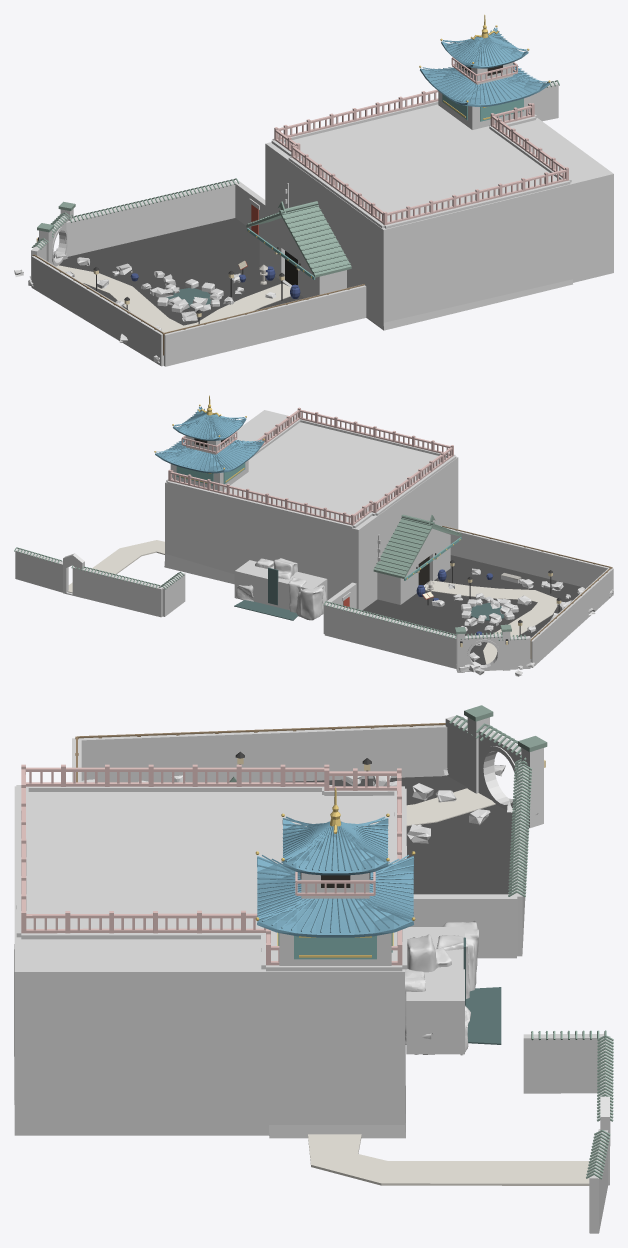
File: CN_nachtegaal.fbx
3 views of the same model, one above another, from view 1: azimuth 30°, elevation 25°; view 2: azimuth 150°, elevation 25°; view 3: azimuth 270°, elevation 25° (orthographic). The views are drawn at different scales.
Visible parts, largest first — view 1: COLL_0, static__TEX_stuc_A_0, static__MAT_zwartgrind_0, static__MAT_roze_0, COLL_6, static__TEX_stuc_V_0, COLL_3, static__MAT_blauwdak_0, static__MAT_groendak_0, static__TEX_stuc_L_0, COLL_5, static__MAT_grind_0 (+4 smaller); view 2: COLL_0, static__TEX_stuc_A_0, static__MAT_zwartgrind_0, static__MAT_roze_0, static__TEX_rots_0, COLL_3, static__MAT_groendak_0, static__MAT_blauwdak_0, static__MAT_grind_0, COLL_6, static__TEX_stuc_L_0, COLL_5 (+8 smaller); view 3: COLL_0, COLL_5, static__MAT_blauwdak_0, static__TEX_stuc_R_0, static__MAT_roze_0, static__MAT_grind_0, static__MAT_zwartgrind_0, static__TEX_stuc_A_0, static__MAT_groendak_0, COLL_10, static__TEX_rots_0, COLL_7 (+9 smaller).
Boxes of the visible parts, x1,y1,x2,y2 form: COLL_0: (265,104,613,328); static__TEX_stuc_A_0: (31,82,571,287); static__MAT_zwartgrind_0: (59,218,304,325); static__MAT_roze_0: (274,57,568,225); COLL_6: (164,285,366,365); static__TEX_stuc_V_0: (48,62,572,366); COLL_3: (64,181,236,256); static__MAT_blauwdak_0: (420,27,549,106); static__MAT_groendak_0: (31,80,559,277); static__TEX_stuc_L_0: (31,62,561,366); COLL_5: (31,256,164,365); static__MAT_grind_0: (56,265,290,332); COLL_0: (165,410,458,610); static__TEX_stuc_A_0: (15,418,592,672); static__MAT_zwartgrind_0: (361,555,585,664); static__MAT_roze_0: (168,407,453,525); static__TEX_rots_0: (236,558,613,676); COLL_3: (324,603,456,667); static__MAT_groendak_0: (14,514,525,640); static__MAT_blauwdak_0: (155,406,264,473); static__MAT_grind_0: (67,540,557,664); COLL_6: (445,527,612,587); static__TEX_stuc_L_0: (66,420,613,666); COLL_5: (530,568,613,665); COLL_0: (14,786,404,1135); COLL_5: (78,725,447,782); static__MAT_blauwdak_0: (257,816,414,937); static__TEX_stuc_R_0: (14,717,609,1233); static__MAT_roze_0: (21,764,402,965); static__MAT_grind_0: (308,788,591,1185); static__MAT_zwartgrind_0: (276,776,515,894); static__TEX_stuc_A_0: (16,718,610,1232); static__MAT_groendak_0: (229,705,613,1179); COLL_10: (406,927,464,1054); static__TEX_rots_0: (81,765,538,1055); COLL_7: (409,894,517,956).
Size of the model in its own units: 44.74 by 16.7 by 24.59.
